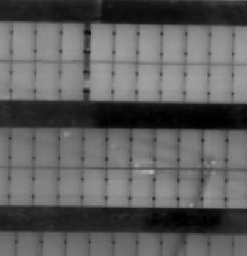solar: (8, 20, 38, 62), (33, 20, 63, 62), (58, 20, 88, 62), (86, 21, 116, 63), (110, 22, 140, 64), (135, 22, 165, 64), (158, 24, 188, 66), (183, 24, 213, 66), (205, 24, 235, 66), (8, 58, 38, 100), (33, 58, 63, 100), (56, 58, 86, 100), (85, 58, 115, 100), (110, 59, 140, 101), (133, 59, 163, 101), (157, 61, 187, 103), (181, 61, 211, 103), (206, 61, 236, 103), (6, 126, 36, 168), (31, 127, 61, 169), (55, 127, 85, 169), (79, 127, 109, 169), (104, 127, 134, 169), (127, 127, 157, 169), (151, 127, 181, 169), (175, 127, 205, 169), (199, 127, 229, 169), (6, 164, 36, 206), (31, 164, 61, 206), (55, 164, 85, 206), (79, 164, 109, 206), (104, 164, 134, 206), (127, 164, 157, 206), (151, 164, 181, 206), (175, 164, 205, 206), (199, 164, 229, 206)
